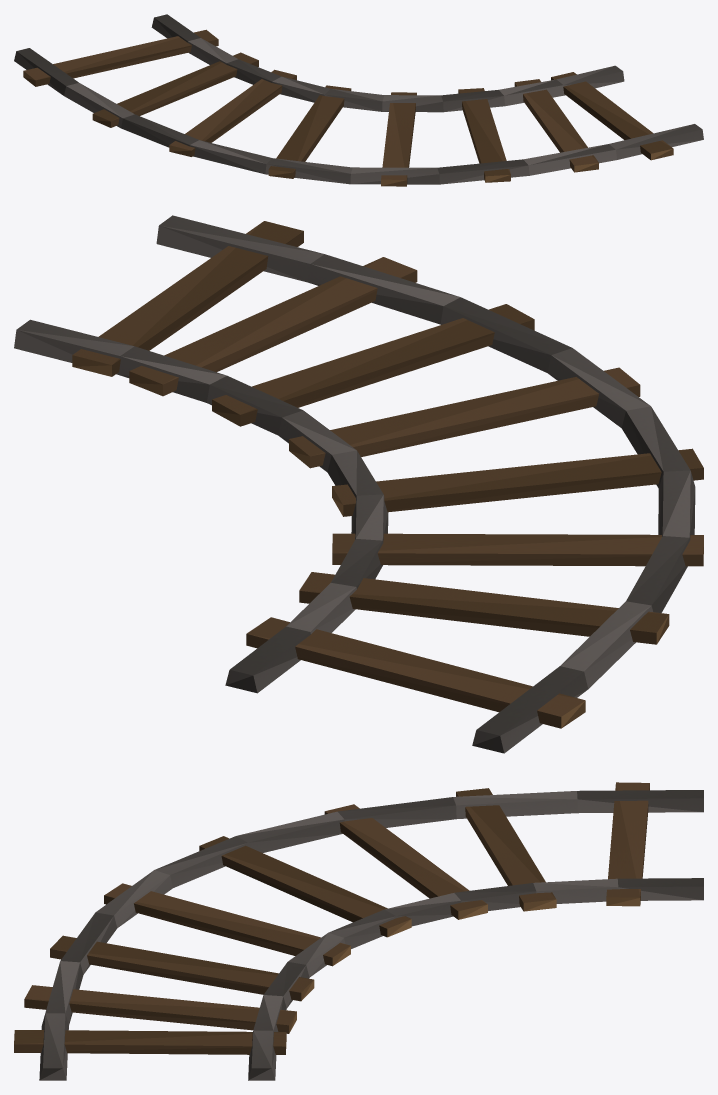
Rendered from Rail_L.fbx.
3 views of the same model, one above another, from view 1: azimuth 30°, elevation 25°; view 2: azimuth 150°, elevation 25°; view 3: azimuth 270°, elevation 25° (orthographic). The views are drawn at different scales.
Visible parts, largest first — view 1: polySurface487; view 2: polySurface487; view 3: polySurface487.
Part boxes in pixels (x1,y1,x2,y2): polySurface487: (14, 14, 703, 186); polySurface487: (14, 215, 703, 753); polySurface487: (14, 782, 703, 1080).
Size of the model in its own units: 500 by 10 by 507.
1 material, 1 textured.
